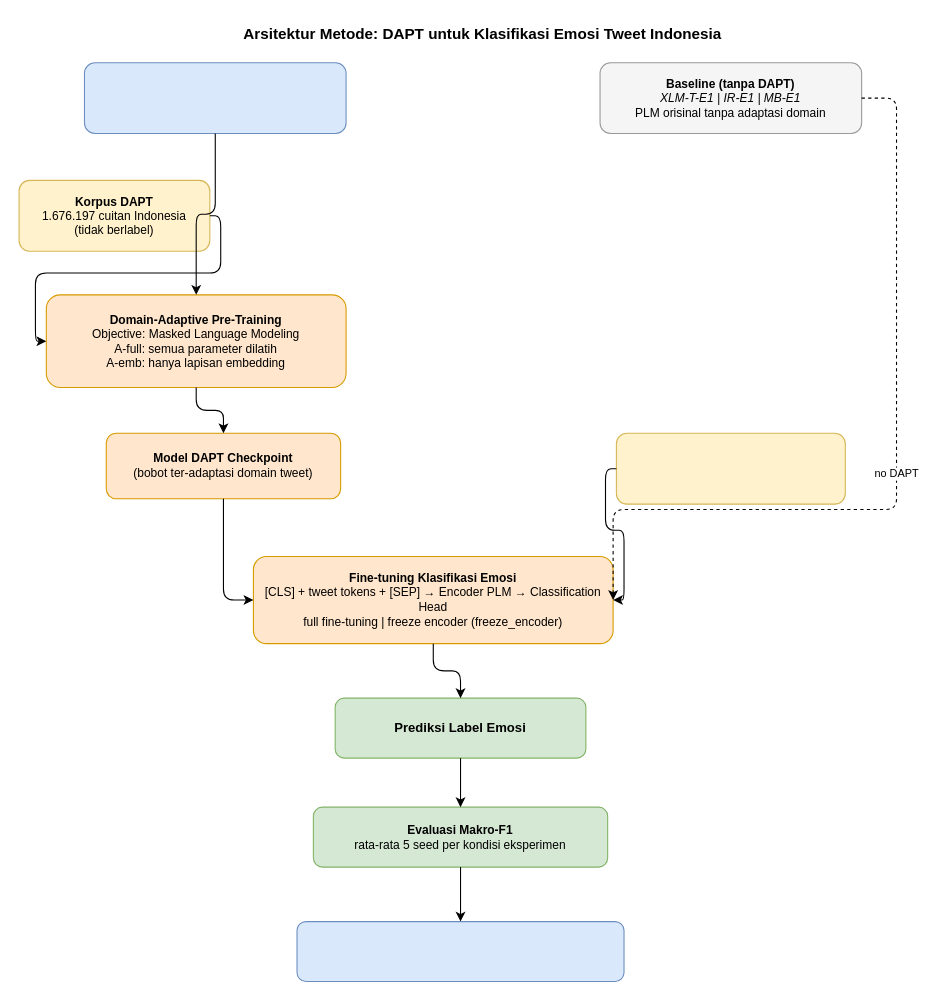
This 936x1001 diagram has some shape labels left out. Here are the shapes that lost their labels. From the top down, the centre of each, then its label:
At point 214,98: "Pre-trained Language Model XLM-T (278M) | Indo-RoBERTa (125M)".
At point 730,468: "Dataset Emosi (D1–D4) 582–3.313 sampel per dataset 4 dataset × 5 seed".
At point 460,951: "Uji Wilcoxon Signed-Rank & Analisis RQ1–RQ4".
